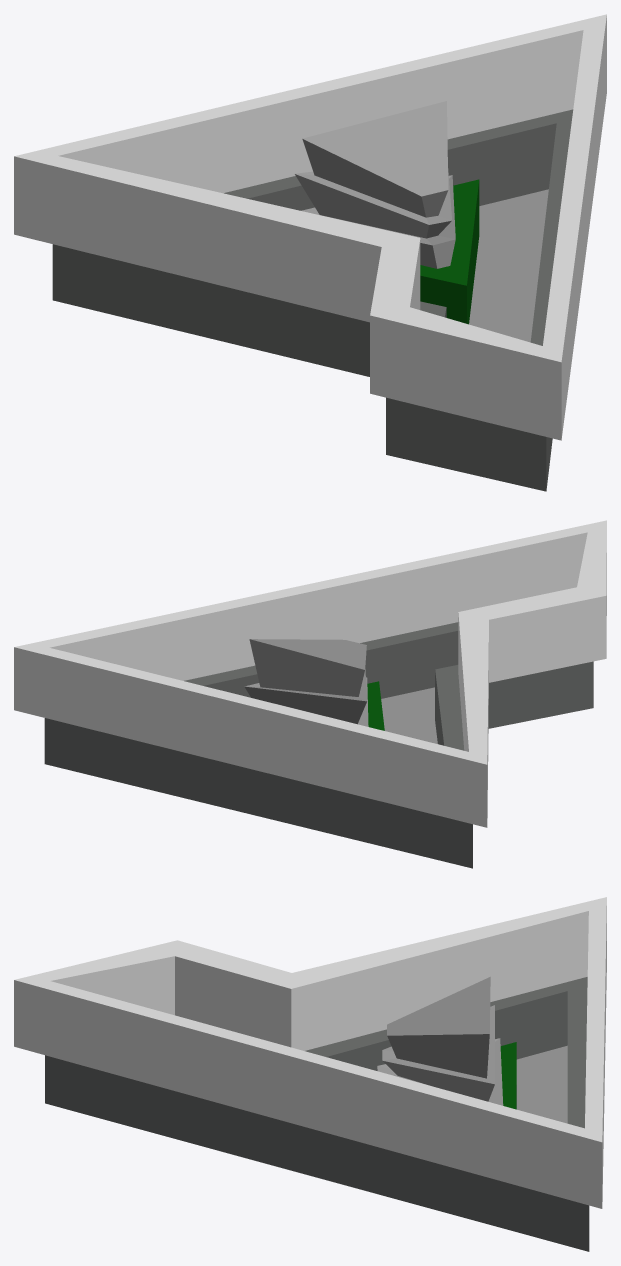
Rendered from level0_1.fbx.
3 views of the same model, one above another, from view 1: azimuth 30°, elevation 25°; view 2: azimuth 150°, elevation 25°; view 3: azimuth 270°, elevation 25° (orthographic). The views are drawn at different scales.
Parts seen in each view (by area): view 1: 0-1_upper_wall, 0-1_lower_wall, 0-1_pillar_green_top, 0-1_floor, 0-1_pillar_green; view 2: 0-1_upper_wall, 0-1_lower_wall, 0-1_pillar_green_top, 0-1_floor, 0-1_pillar_green; view 3: 0-1_upper_wall, 0-1_lower_wall, 0-1_pillar_green_top, 0-1_floor, 0-1_pillar_green.
Part boxes in pixels (<box>): 0-1_upper_wall: <box>14,14,606,440</box>; 0-1_lower_wall: <box>52,109,573,491</box>; 0-1_pillar_green_top: <box>295,101,455,268</box>; 0-1_floor: <box>469,189,548,342</box>; 0-1_pillar_green: <box>420,179,479,324</box>; 0-1_upper_wall: <box>14,520,606,827</box>; 0-1_lower_wall: <box>44,622,593,868</box>; 0-1_pillar_green_top: <box>244,639,368,726</box>; 0-1_floor: <box>381,687,437,743</box>; 0-1_pillar_green: <box>367,681,384,730</box>; 0-1_upper_wall: <box>14,897,606,1208</box>; 0-1_lower_wall: <box>45,977,589,1251</box>; 0-1_pillar_green_top: <box>377,976,503,1105</box>; 0-1_floor: <box>516,1045,567,1123</box>; 0-1_pillar_green: <box>500,1042,516,1109</box>.
Size of the model in its own units: 23.55 by 6.44 by 24.05.
